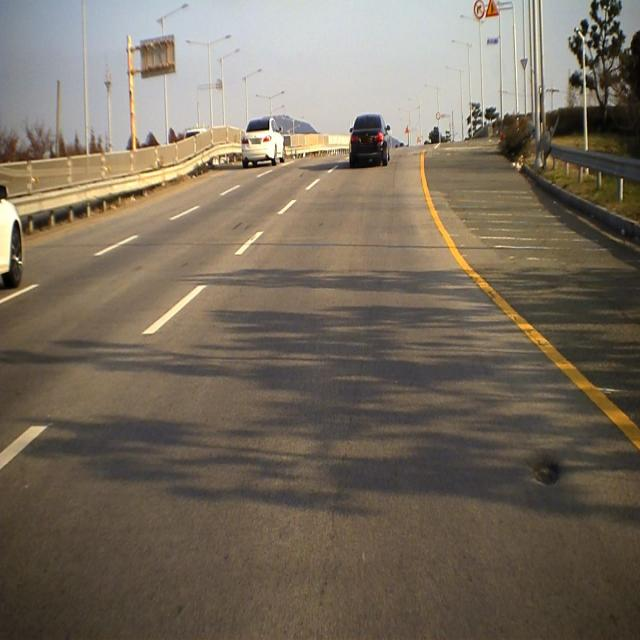Pothole: (521, 444, 578, 505)
